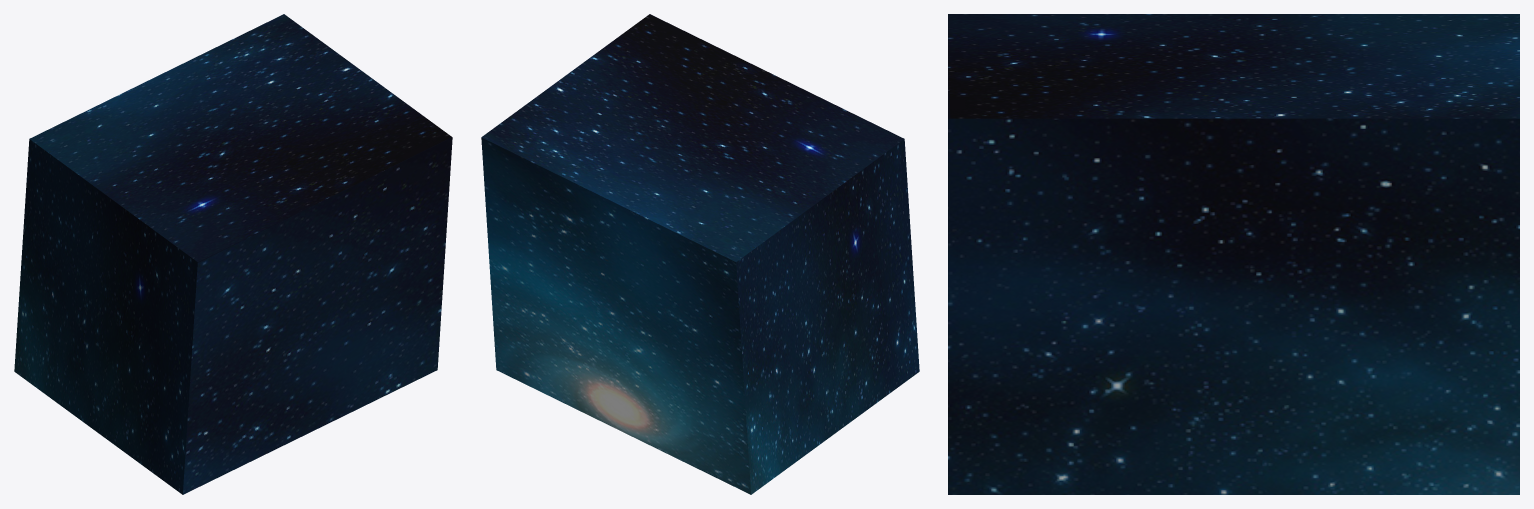
Rendered from SpaceSkyBox.obj.
3 renders of one model, left to right at view 1: azimuth 30°, elevation 25°; view 2: azimuth 150°, elevation 25°; view 3: azimuth 270°, elevation 25°, orthographic. The views are drawn at different scales.
Visible parts, largest first — view 1: Cube_Cube.001; view 2: Cube_Cube.001; view 3: Cube_Cube.001.
Part boxes in pixels (bbox=[...]): Cube_Cube.001: bbox=[14, 14, 452, 494]; Cube_Cube.001: bbox=[481, 14, 919, 494]; Cube_Cube.001: bbox=[948, 14, 1519, 494].
Size of the model in its own units: 23.11 by 23.88 by 24.99.
2 materials, 1 textured.
